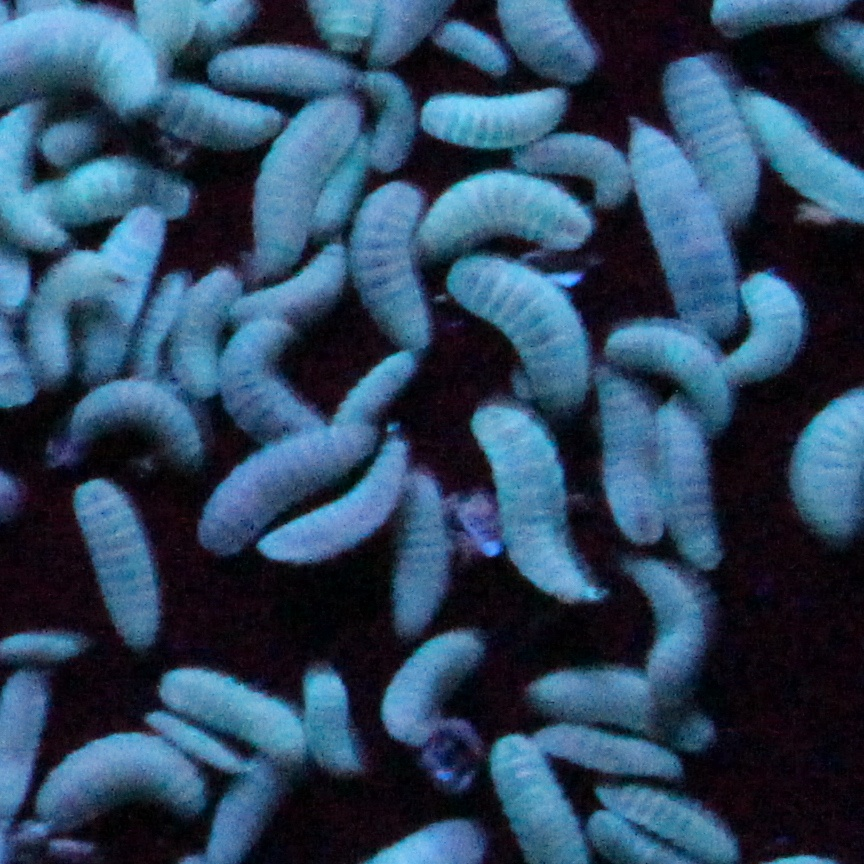larve: (173, 399, 401, 554), (611, 127, 758, 342), (461, 414, 608, 619), (18, 717, 213, 842), (451, 259, 608, 402), (236, 434, 403, 559), (248, 92, 356, 264), (668, 57, 771, 232), (73, 199, 168, 384), (346, 179, 441, 357), (78, 482, 173, 647), (211, 307, 328, 429), (656, 399, 731, 589), (386, 614, 483, 752), (626, 562, 706, 724), (601, 309, 723, 412), (606, 374, 676, 547), (421, 179, 593, 249), (161, 252, 246, 392), (433, 77, 598, 149), (156, 667, 296, 749), (523, 659, 663, 727), (728, 274, 808, 384), (356, 59, 431, 174), (531, 132, 643, 207), (301, 667, 356, 764)
